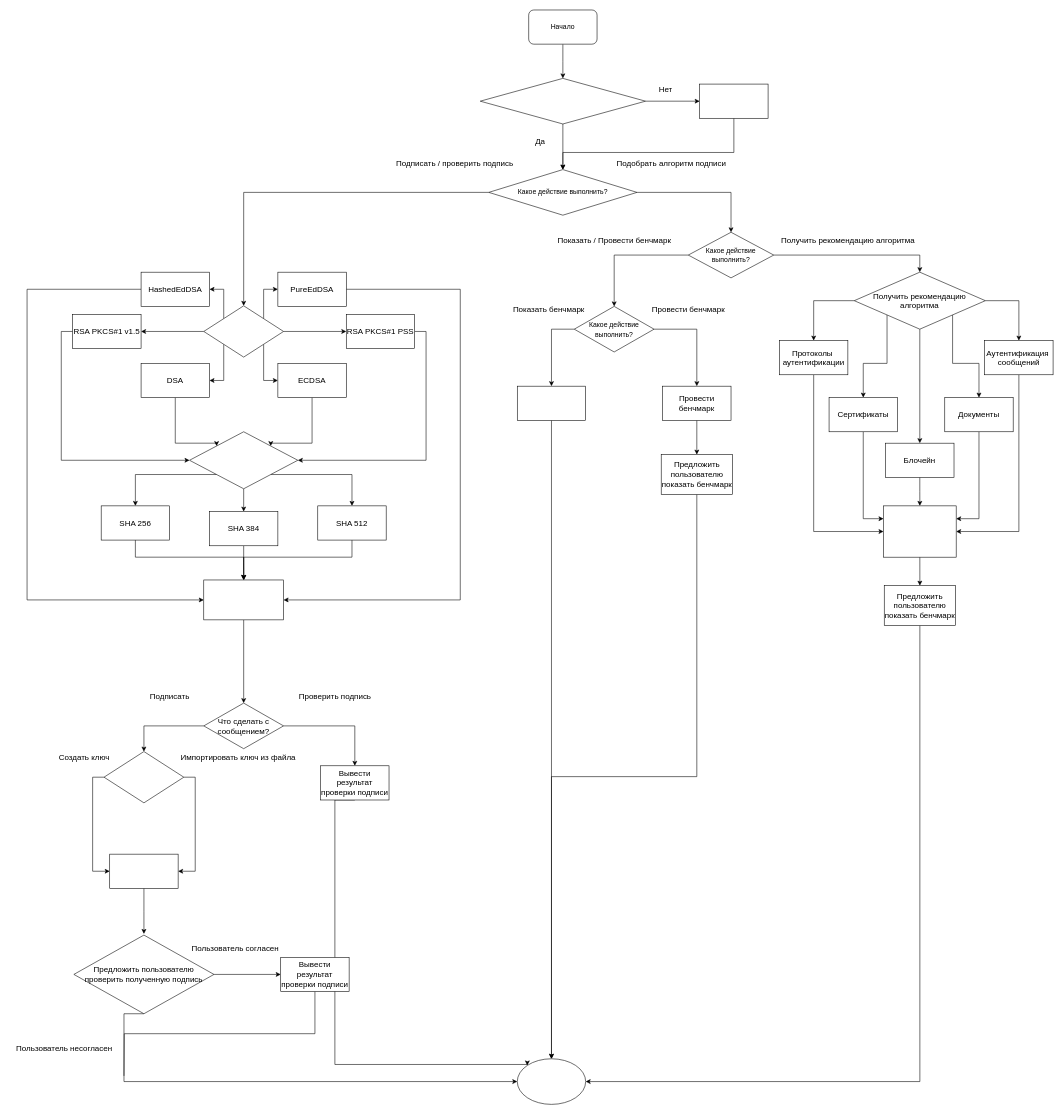
This 1063x1114 diagram has some shape labels left out. Here are the shapes that lost their labels. From the top down, the box of each, then its label:
(480, 78, 646, 124): Есть ли файлы бенчмарка на устройстве?
(699, 84, 768, 118): Предложить пользователю провести бенчмарк
(203, 305, 284, 357): Выбрать алгоритм подписи
(517, 386, 586, 420): Вывести на экран таблицу с бенчмарком
(189, 431, 298, 489): Выбрать алгоритм хэширования
(883, 505, 956, 557): Показать соответствующие алгоритмы электронной подписи
(203, 579, 284, 620): Введите сообщение для подписи / проверки
(103, 751, 184, 803): Выбрать источник ключа
(109, 854, 178, 888): Подписать сообщение
(517, 1058, 586, 1104): Конец
